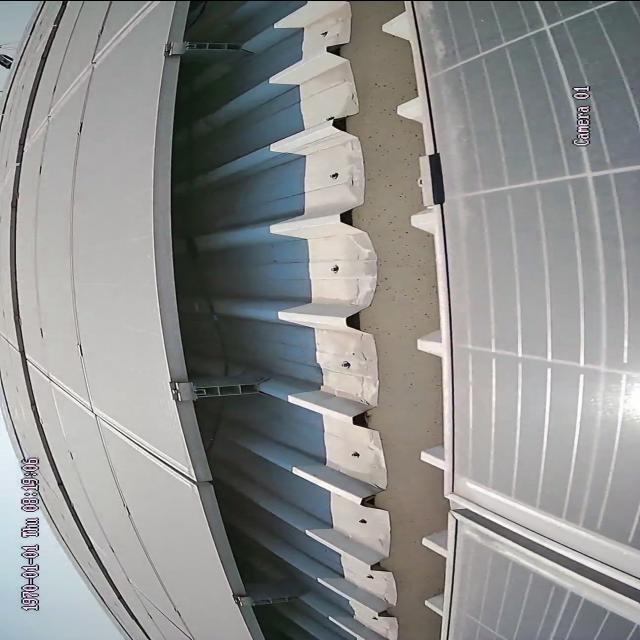interior panel: (461, 478, 640, 626), (32, 369, 185, 481), (31, 3, 158, 137)
outher panel: (163, 0, 459, 638)
